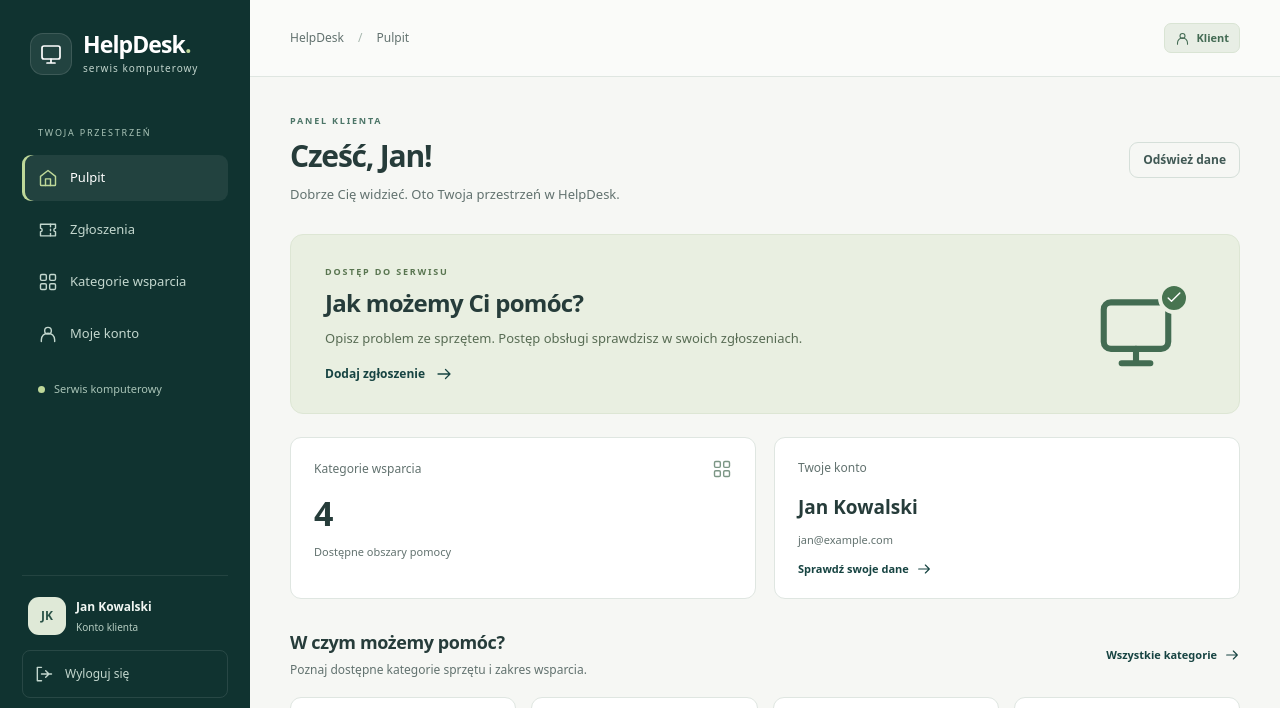
it: Wygaśnięcie sesji podczas odświeżania usuwa panel i prosi o ponowne logowanie
What coordinates should you click on to do the following:
click the button "Odśwież dane"
I would click on:
 (1185, 160)
Its box is [1129,142,1240,178].
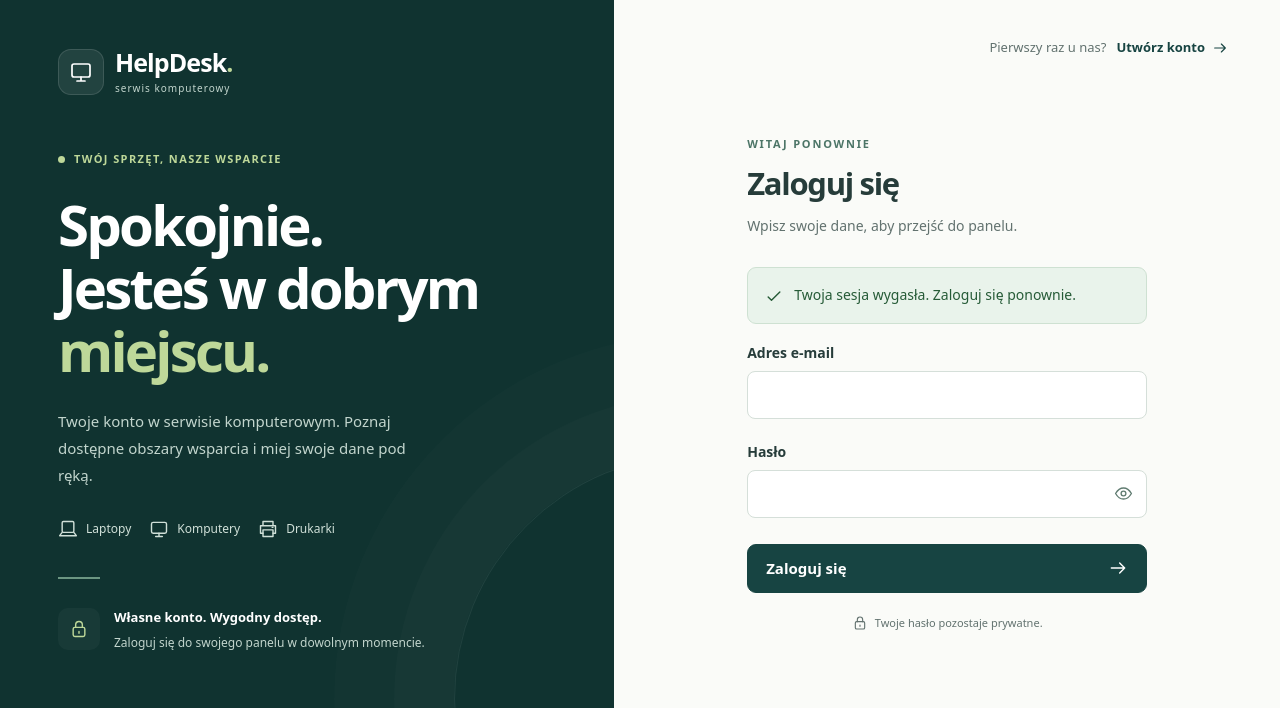
Now the heading "Zaloguj się" is shown, box [747,162,899,204]
Now the message shows "Twoja sesja wygasła", box [794,284,1076,304]
